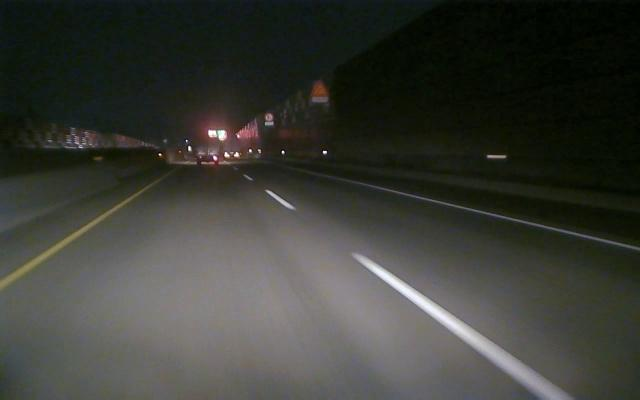lane: (245, 174, 575, 398), (344, 179, 640, 251), (1, 189, 143, 291)
